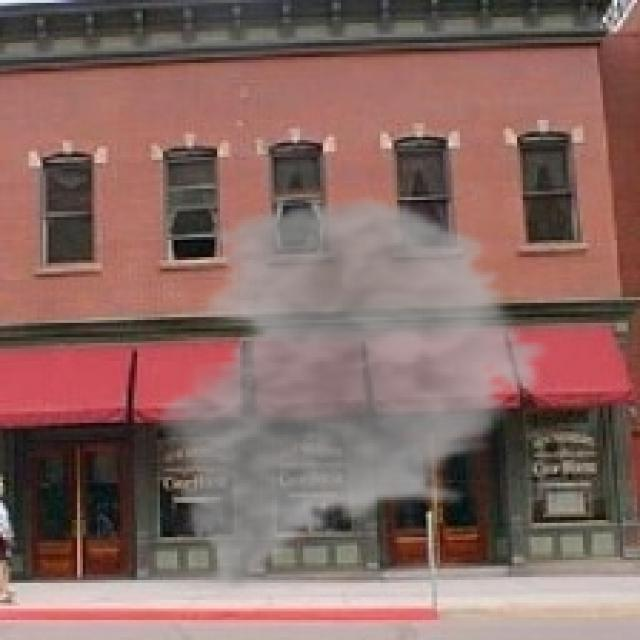Smoke: (145, 192, 558, 594)
